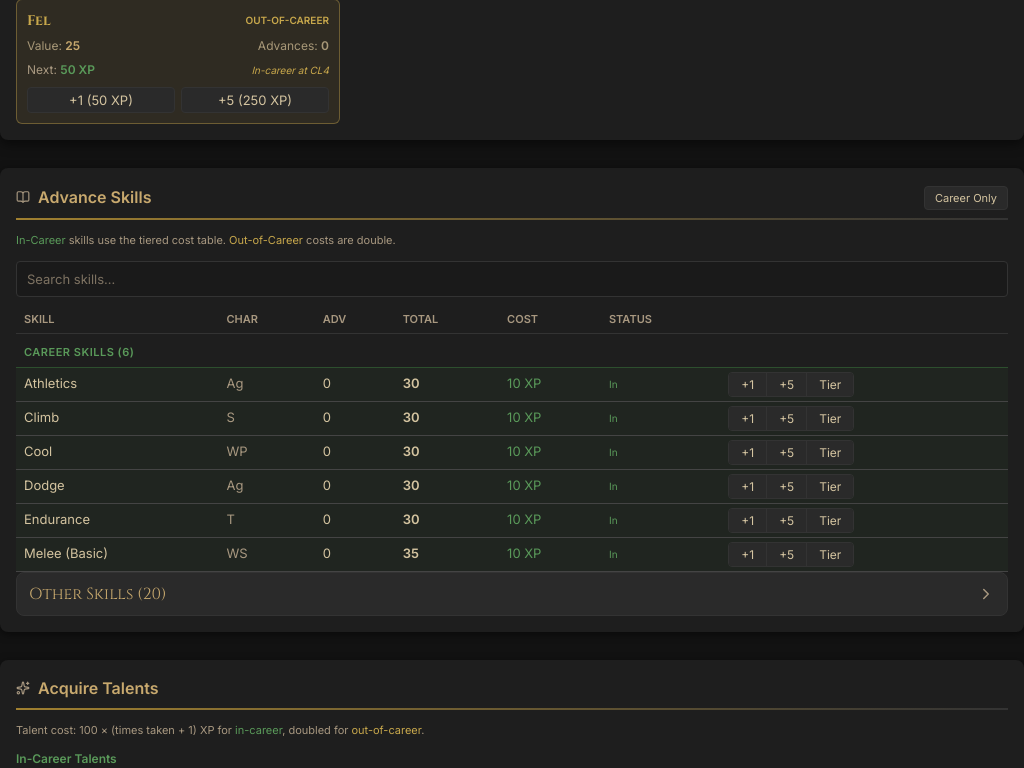
Scenario: AdvancementPage tooltip behavior › clicking a skill name opens a tooltip with correct content (Req 2.1)
# "Athletics" is a basic skill with a known description
Click the button "Athletics": (51, 384) [24,374,77,394]
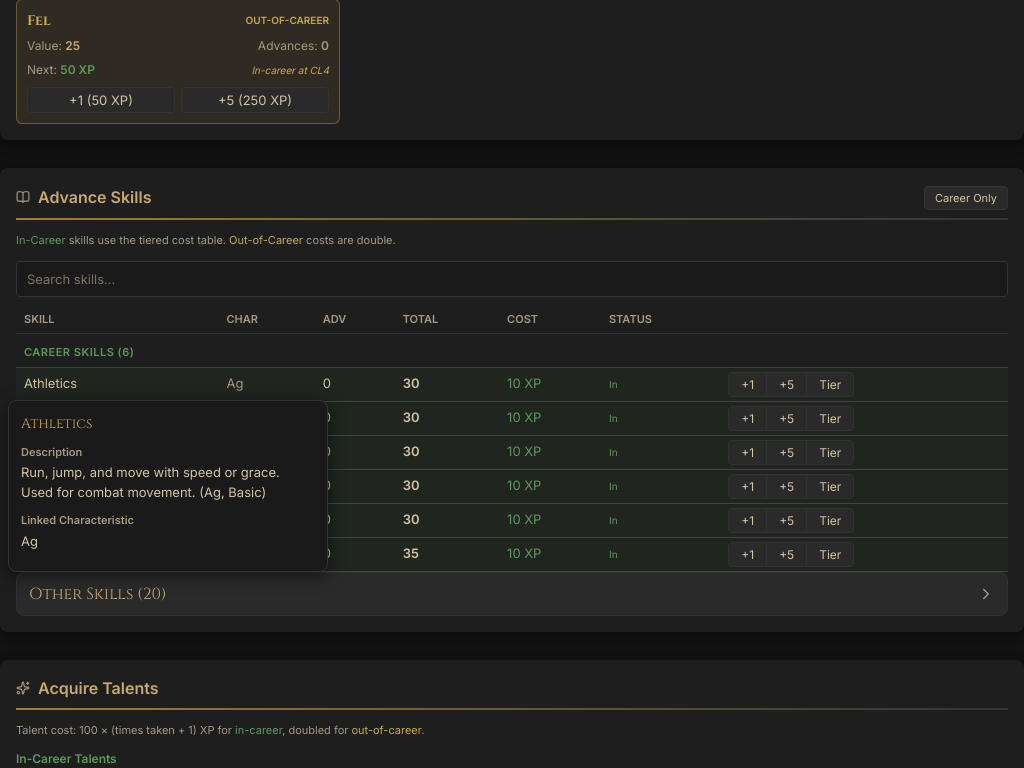
Now the tooltip is shown, box [8,400,328,572]
Now the tooltip shows "Athletics", box [21,414,92,433]
Now the tooltip shows "Description", box [21,445,82,459]
